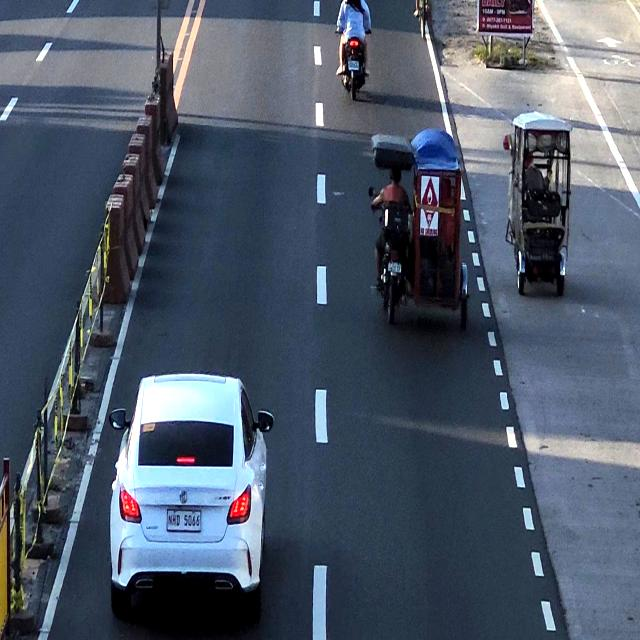Car: (114, 373, 270, 615)
License-Plate: (165, 503, 203, 537), (385, 262, 404, 275), (346, 59, 360, 72)
Motorcycle: (337, 0, 369, 102)
Tricycle: (368, 127, 473, 337)
